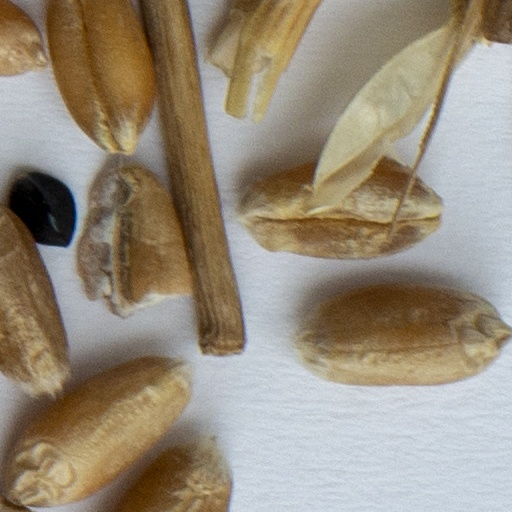Fallopia-Convolvulus-poly: (10, 173, 173, 245)
Wheat-grain-damaged-poly: (69, 150, 150, 322)
